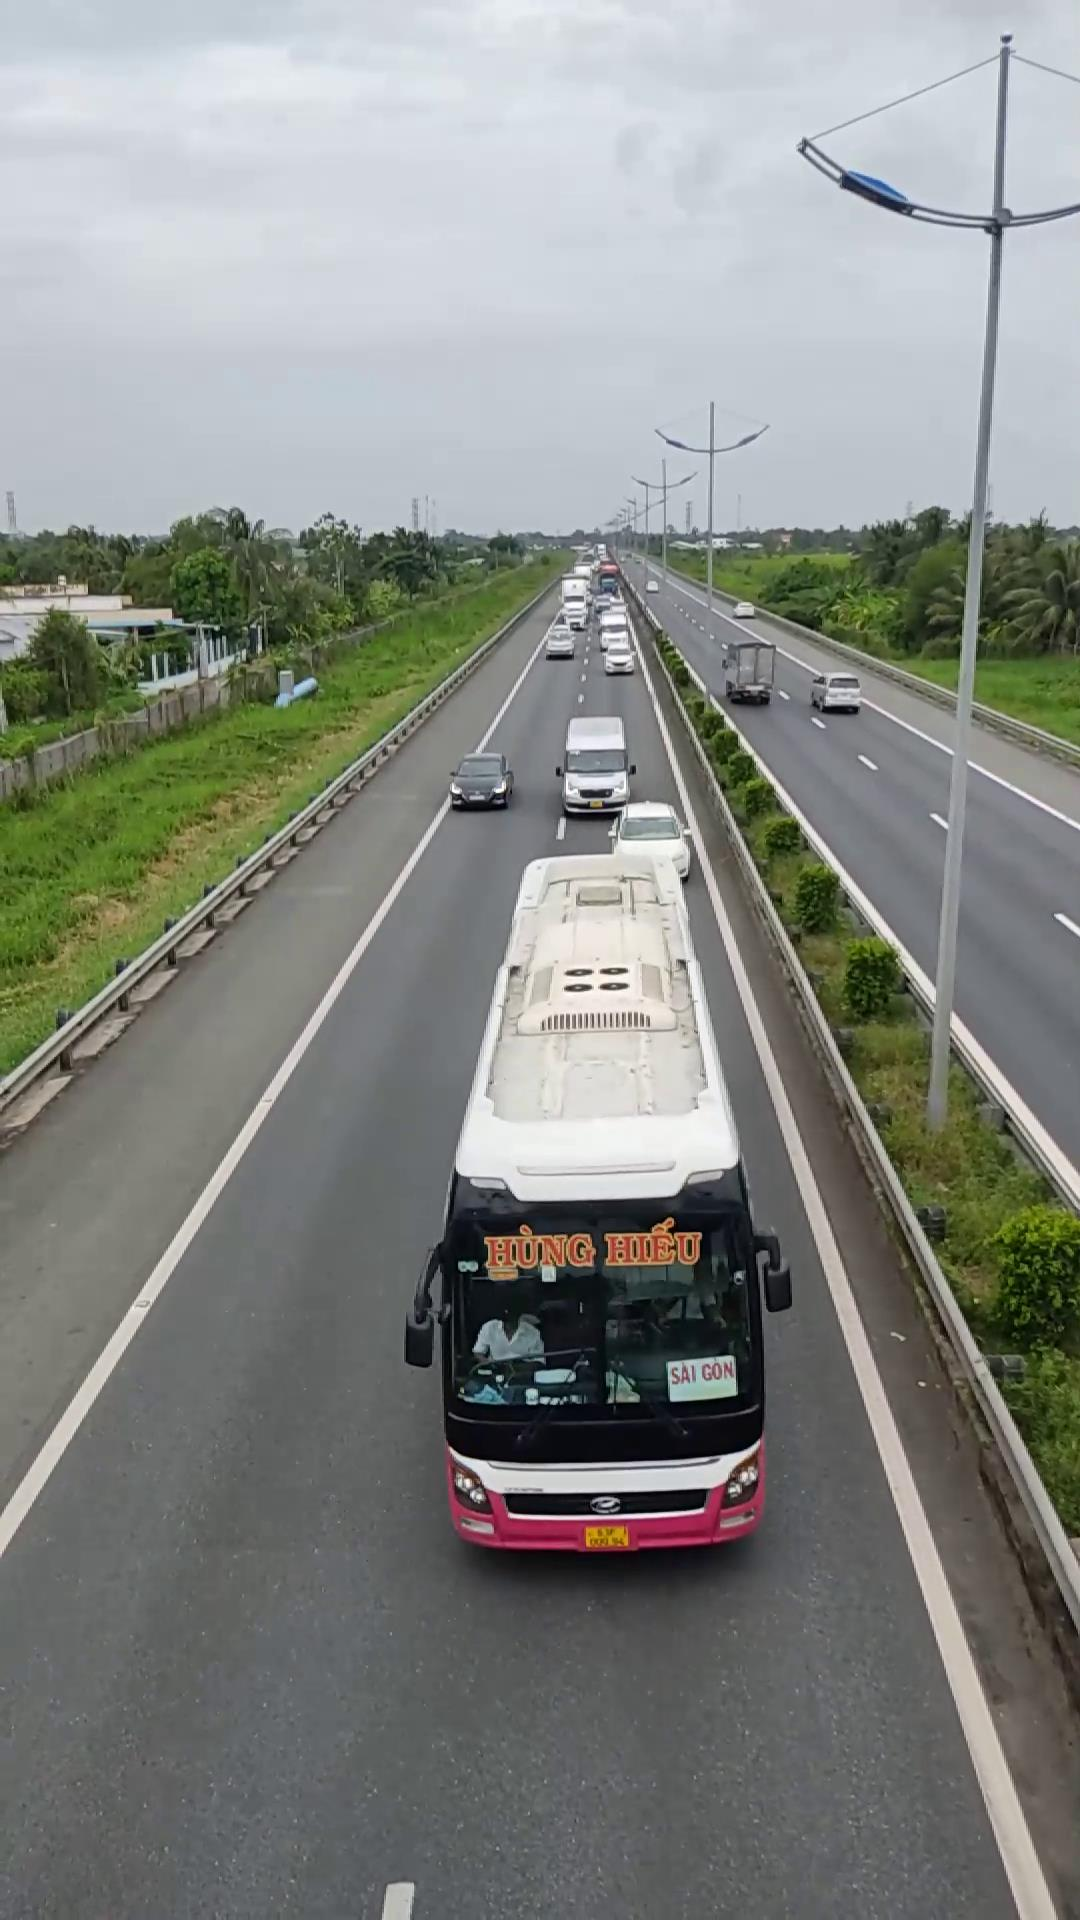bus: (407, 816, 785, 1556)
car: (556, 713, 634, 816)
